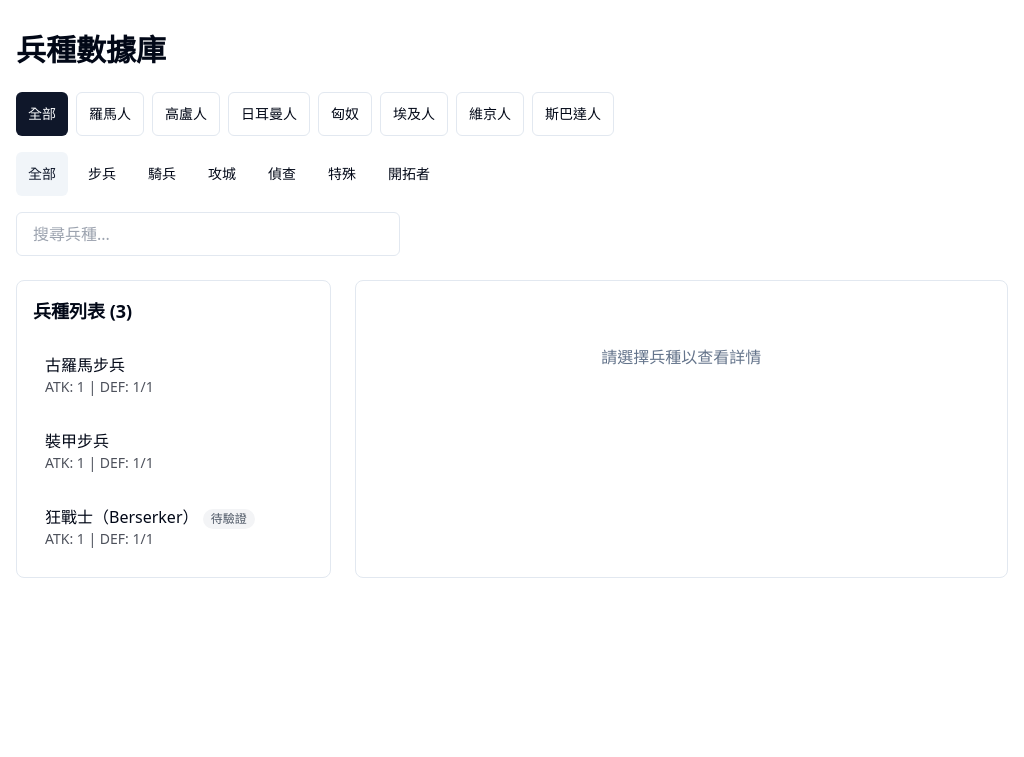
Scenario: TroopsPage: one 「待驗證」 chip for unit costs / upkeep / training time (P0-17) › 裝甲步兵: no units chip (Spartan costs read from the ASIA x1 in-game help, 2026-10-11)
Step 1. Click the text "裝甲步兵" → (77,441), box top-left (45, 430), bottom-right (109, 452)
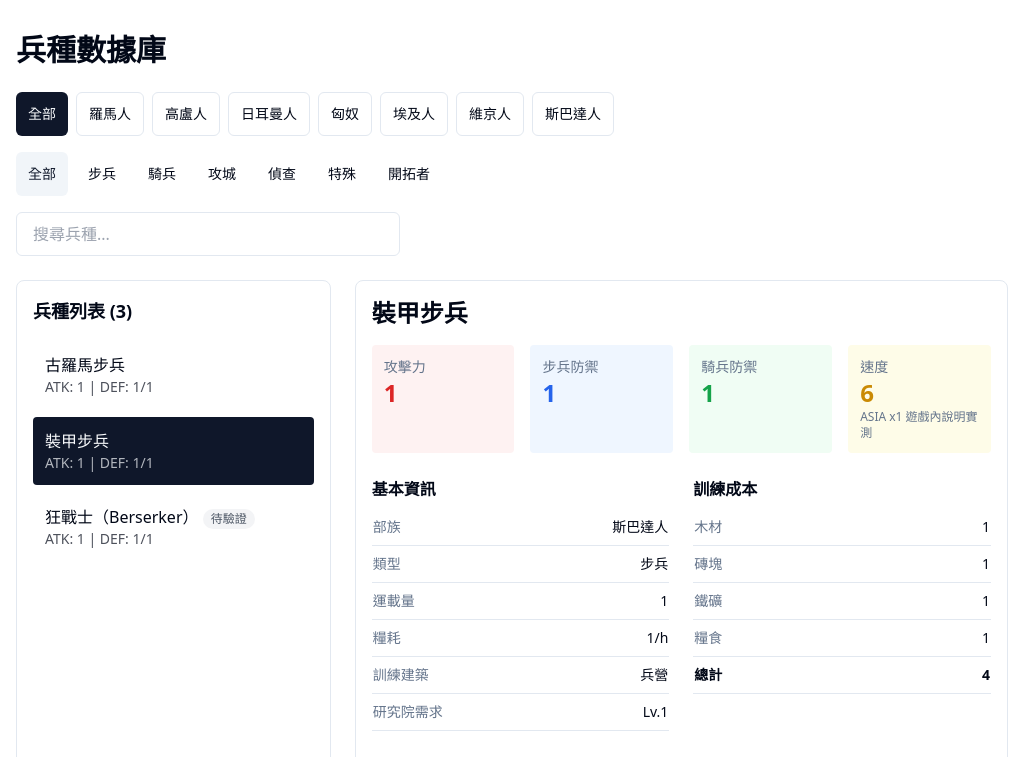
expect the heading "訓練成本" is shown: met, box top-left (693, 478), bottom-right (757, 500)
